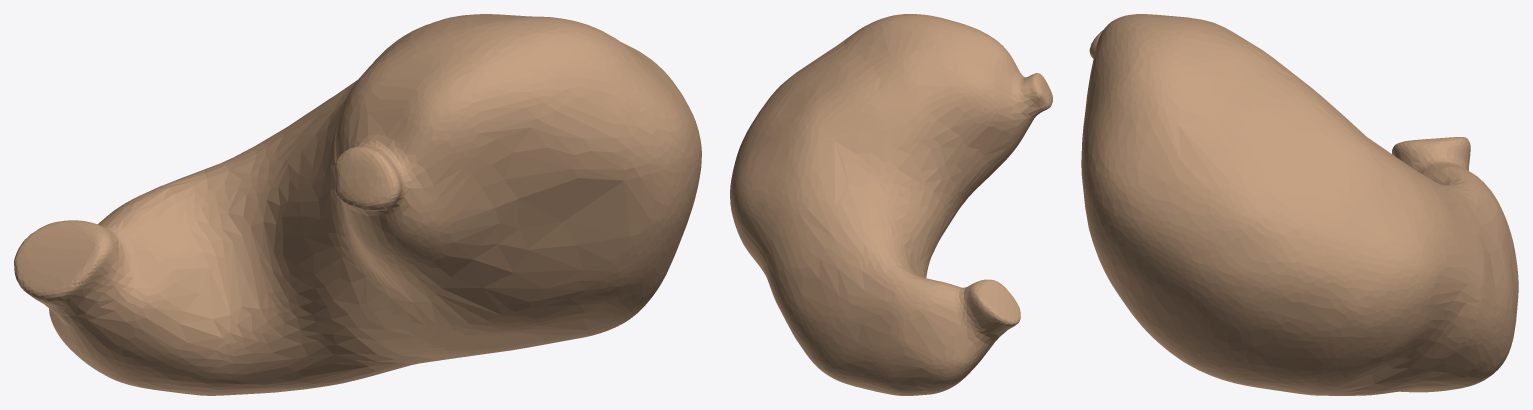
Rendered from estomac.glb.
3 renders of one model, left to right at view 1: azimuth 30°, elevation 25°; view 2: azimuth 150°, elevation 25°; view 3: azimuth 270°, elevation 25°, orthographic. The views are drawn at different scales.
Parts seen in each view (by area): view 1: FMA7148.stl; view 2: FMA7148.stl; view 3: FMA7148.stl.
Part boxes in pixels (x1,y1,x2,y2): FMA7148.stl: (14,14,701,395); FMA7148.stl: (730,14,1052,395); FMA7148.stl: (1081,14,1518,395).
Size of the model in its own units: 2 by 1.63 by 1.7.
